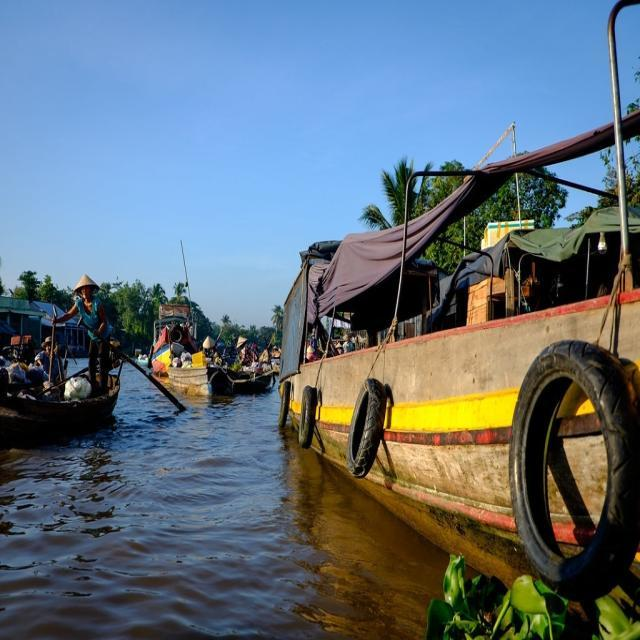Hyacinth: (437, 577, 640, 640)
boat: (277, 250, 640, 544), (2, 356, 126, 438), (141, 319, 241, 402)
